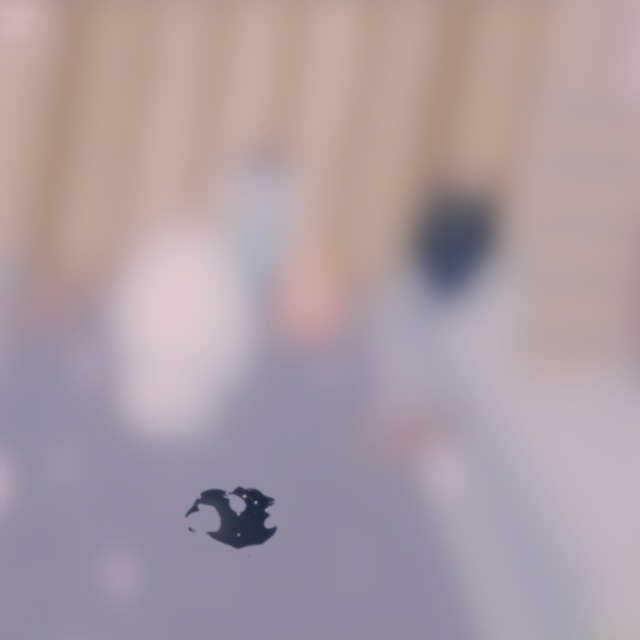urso_preto: (165, 461, 302, 573)
